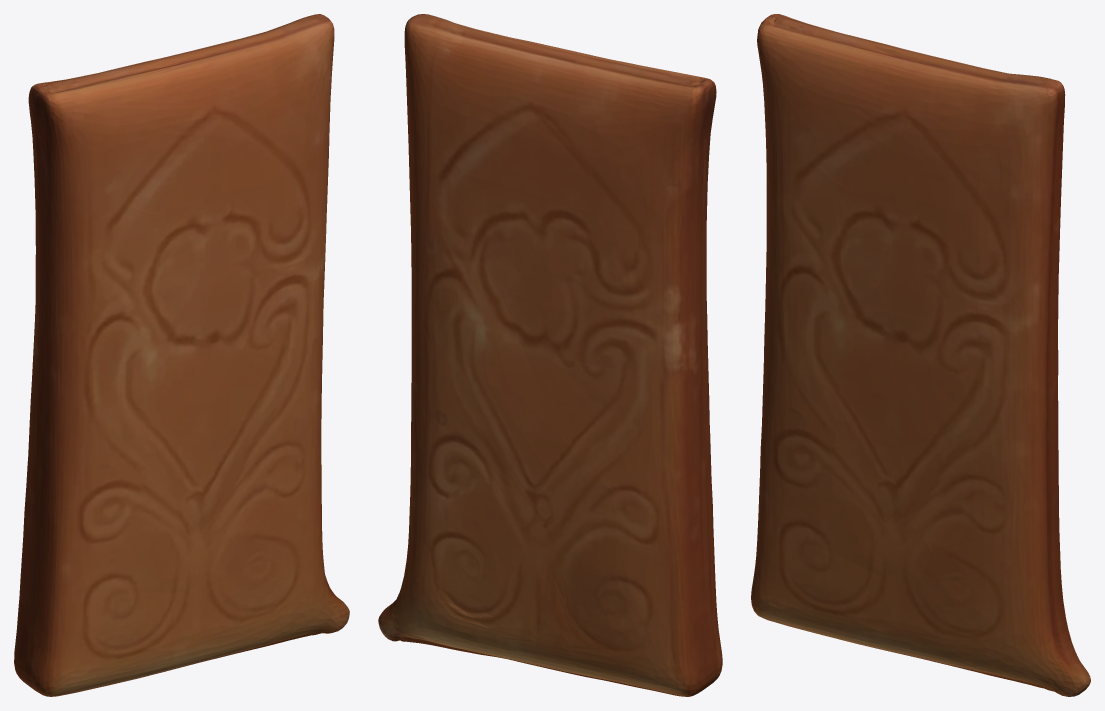
3 renders of one model, left to right at view 1: azimuth 30°, elevation 25°; view 2: azimuth 150°, elevation 25°; view 3: azimuth 330°, elevation 25°, orthographic.
Parts seen in each view (by area): view 1: geometry_0; view 2: geometry_0; view 3: geometry_0.
Part boxes in pixels (x1,y1,x2,y2): geometry_0: (14,14,349,696); geometry_0: (378,14,722,696); geometry_0: (751,14,1090,696).
Size of the model in its own units: 0.5474 by 0.9938 by 0.1372.
1 material, 1 textured.
